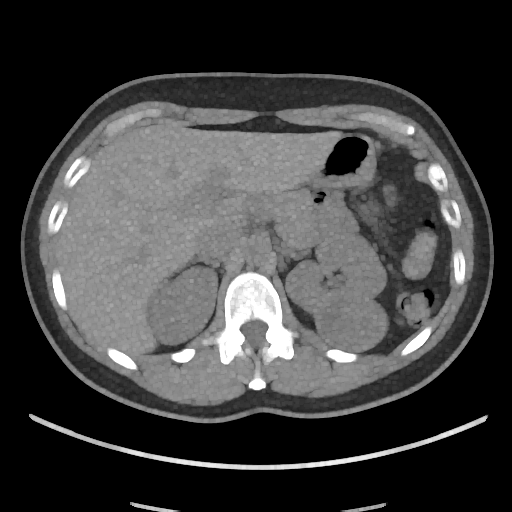Lesion: (309, 287, 394, 359)
